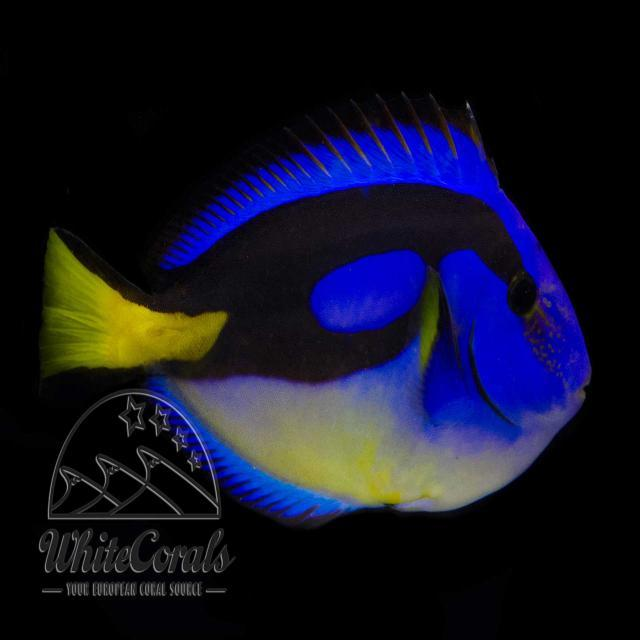BlueTang: (46, 110, 586, 504)
